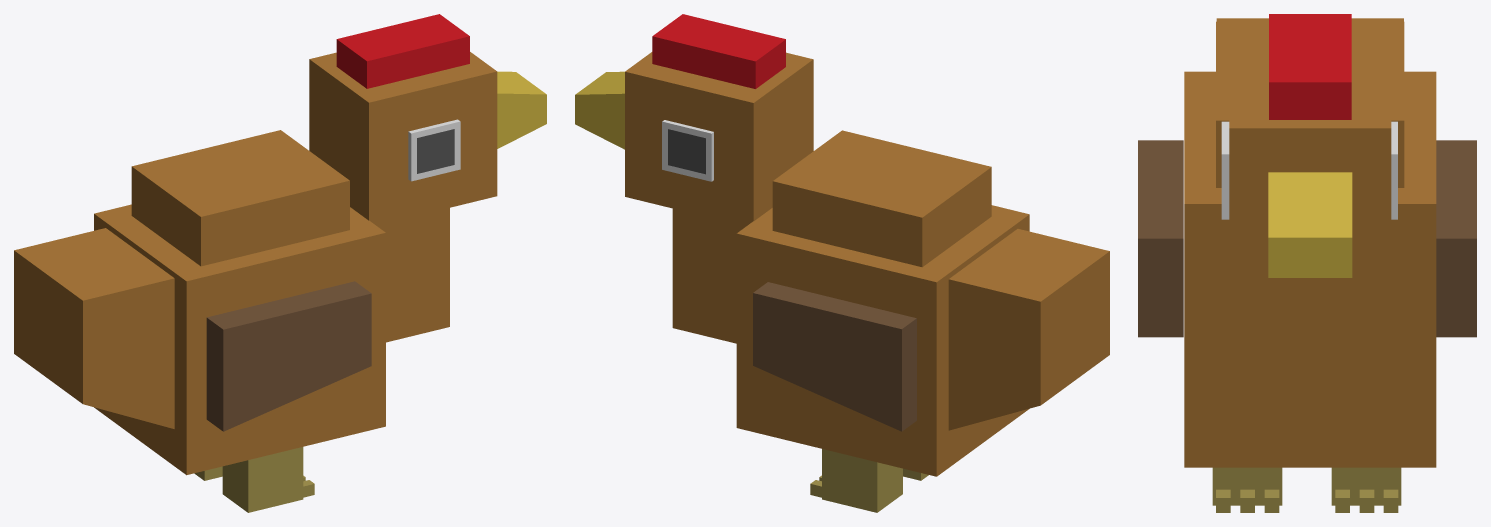
File: ayam.fbx
The picture shows the model from 3 angles, left to right: view 1: azimuth 30°, elevation 25°; view 2: azimuth 150°, elevation 25°; view 3: azimuth 270°, elevation 25°; orthographic projection. The views are drawn at different scales.
Visible parts, largest first — view 1: ayam; view 2: ayam; view 3: ayam.
Boxes of the visible parts, x1,y1,x2,y2 form: ayam: [14, 14, 546, 512]; ayam: [575, 14, 1109, 512]; ayam: [1138, 14, 1476, 512].
Bounding box in the file's own units: 485 × 386 × 216.
